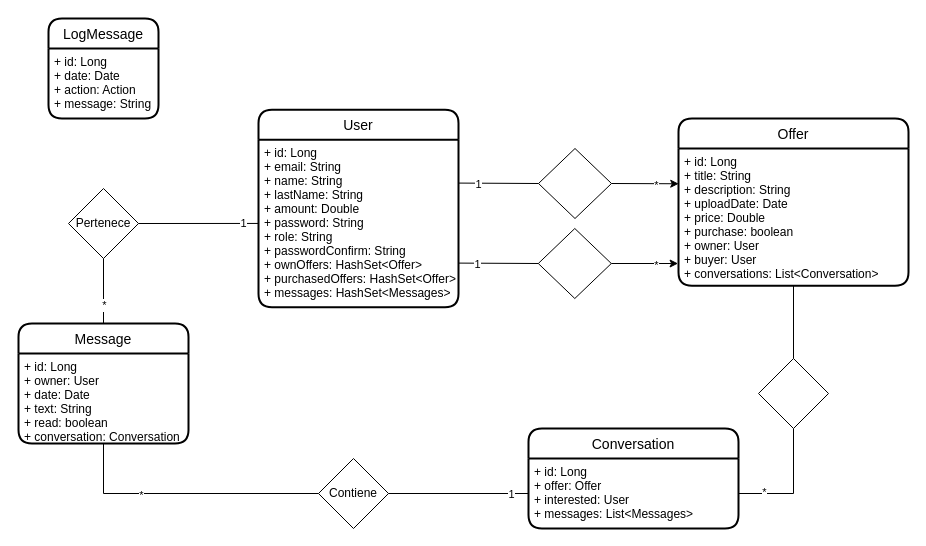
Image size: 926x546. Some labels were removed from this diagram. Here are the shapes that lost their labels. From the top down, the centre of each, then its label:
the point at 575,183: Publica
the point at 574,263: Compra
the point at 793,393: Establece
